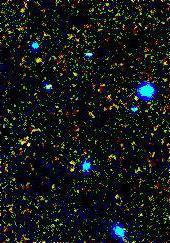star: (22, 43, 52, 73)
